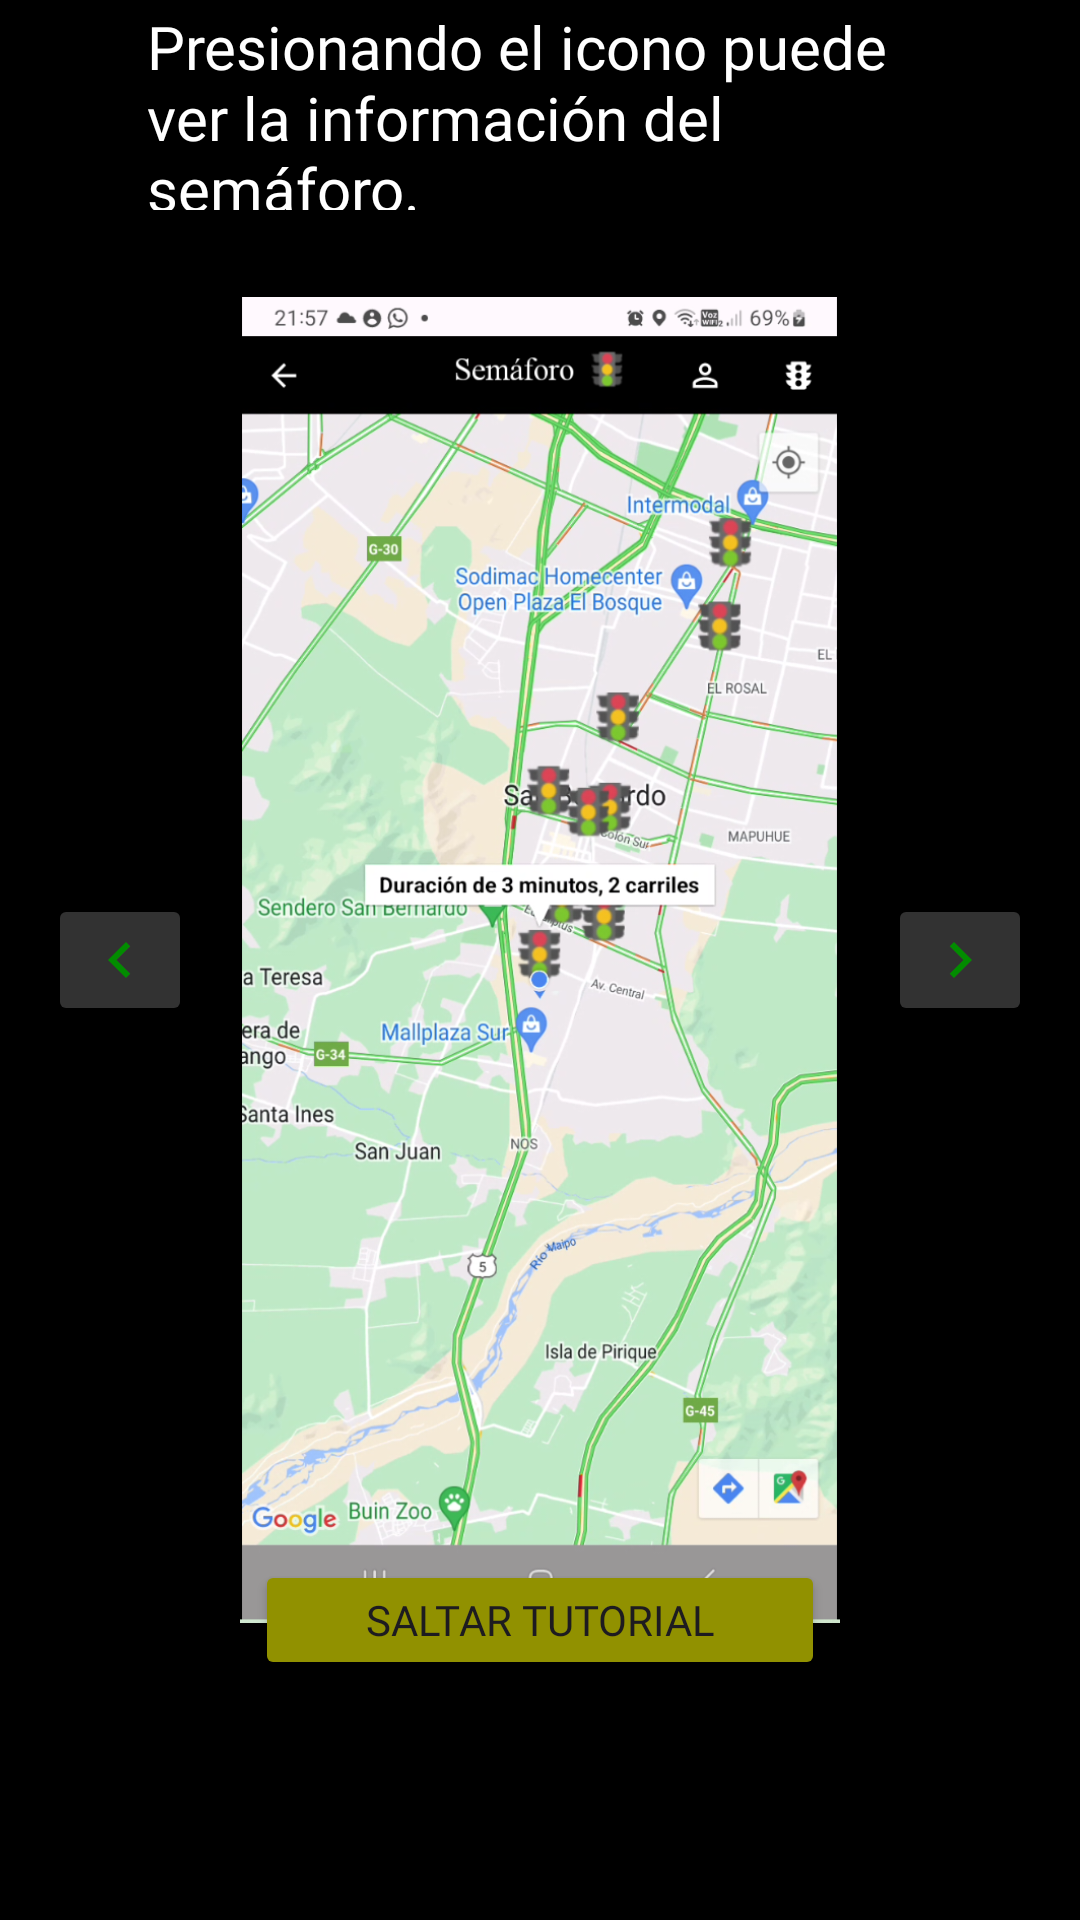

Point at icon controls on the screen. Image size 1080x1920, points as [x,y].
Anterior: [120,960]
Siguiente: [960,960]
